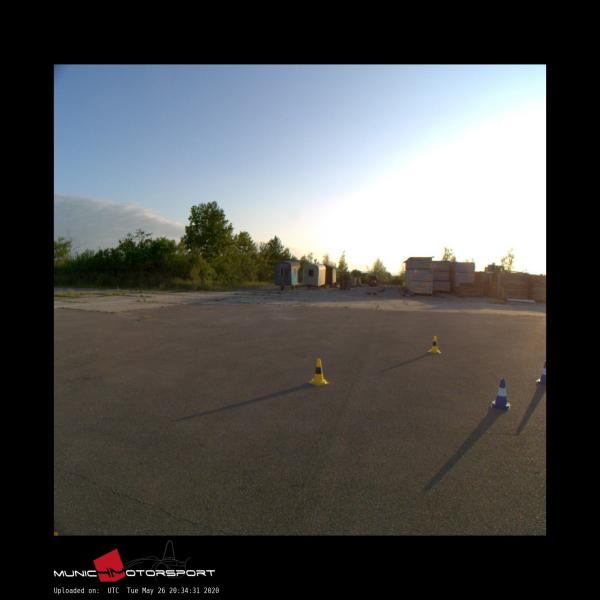blue_cone: (491, 378, 511, 410), (536, 360, 546, 384)
yellow_cone: (309, 358, 328, 386), (427, 336, 442, 352)
